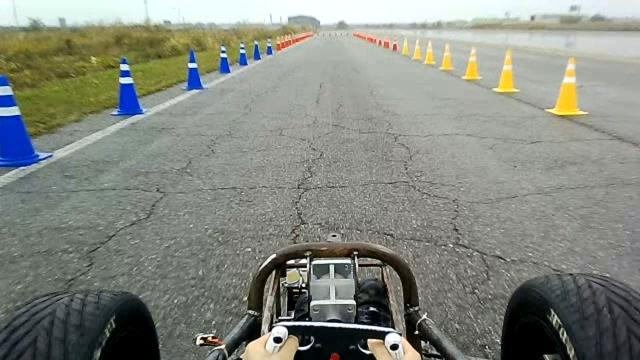blue cone: (0, 75, 53, 167), (110, 57, 145, 116), (181, 48, 205, 91), (218, 43, 231, 74), (238, 41, 248, 66), (252, 40, 262, 60), (266, 38, 273, 55)
yellow cone: (544, 56, 588, 116), (492, 47, 520, 93), (461, 45, 483, 81), (439, 42, 454, 70), (423, 40, 436, 65), (411, 38, 422, 61), (400, 37, 410, 56), (392, 38, 399, 52)
